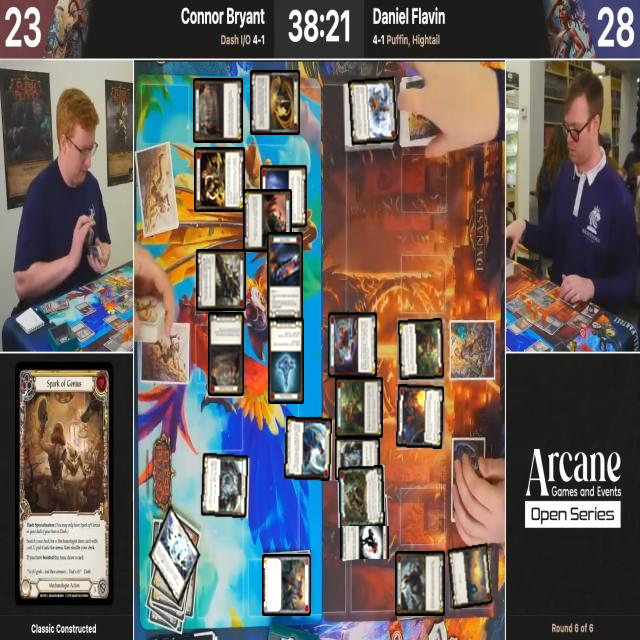Barraging_Brawnhide_WTR178: (395, 552, 445, 617)
Blackout_Kick_WTR089: (341, 526, 390, 560)
Debilitate_WTR068: (262, 554, 312, 617)
Demolition_Crew_WTR179: (194, 148, 246, 213)
Drone_of_Brutality_WTR165: (208, 312, 244, 397)
Drone_of_Brutality_WTR166: (193, 78, 244, 144)
Flock_of_the_Feather_Walkers_WTR184: (348, 76, 399, 146)
Open_the_Center_WTR097: (328, 312, 378, 379)
Pack_Hunt_WTR023: (397, 384, 445, 450)
Pummel_WTR208: (196, 250, 246, 312)
Razor_Reflex_WTR211: (267, 232, 304, 322)
Sand_Sketched_Plan_WTR009: (338, 465, 386, 529)
Seismic_Surge_WTR075: (149, 505, 202, 607)
Sigil_of_Solace_WTR174: (448, 543, 494, 611)
Sink_Below_WTR215: (259, 164, 308, 230)
Stroke_of_Foresight_WTR139: (250, 71, 300, 136)
Tectonic_Plating_WTR041: (201, 453, 250, 520), (335, 438, 380, 481)
Timesnap_Potion_WTR172: (268, 318, 304, 404)
Whelming_Gustwave_WTR111: (284, 416, 332, 482)
Wounded_Bull_WTR200: (398, 319, 444, 381)
Wounded_Bull_WTR202: (335, 378, 383, 439)
Wounding_Blow_WTR205: (244, 190, 292, 252)
